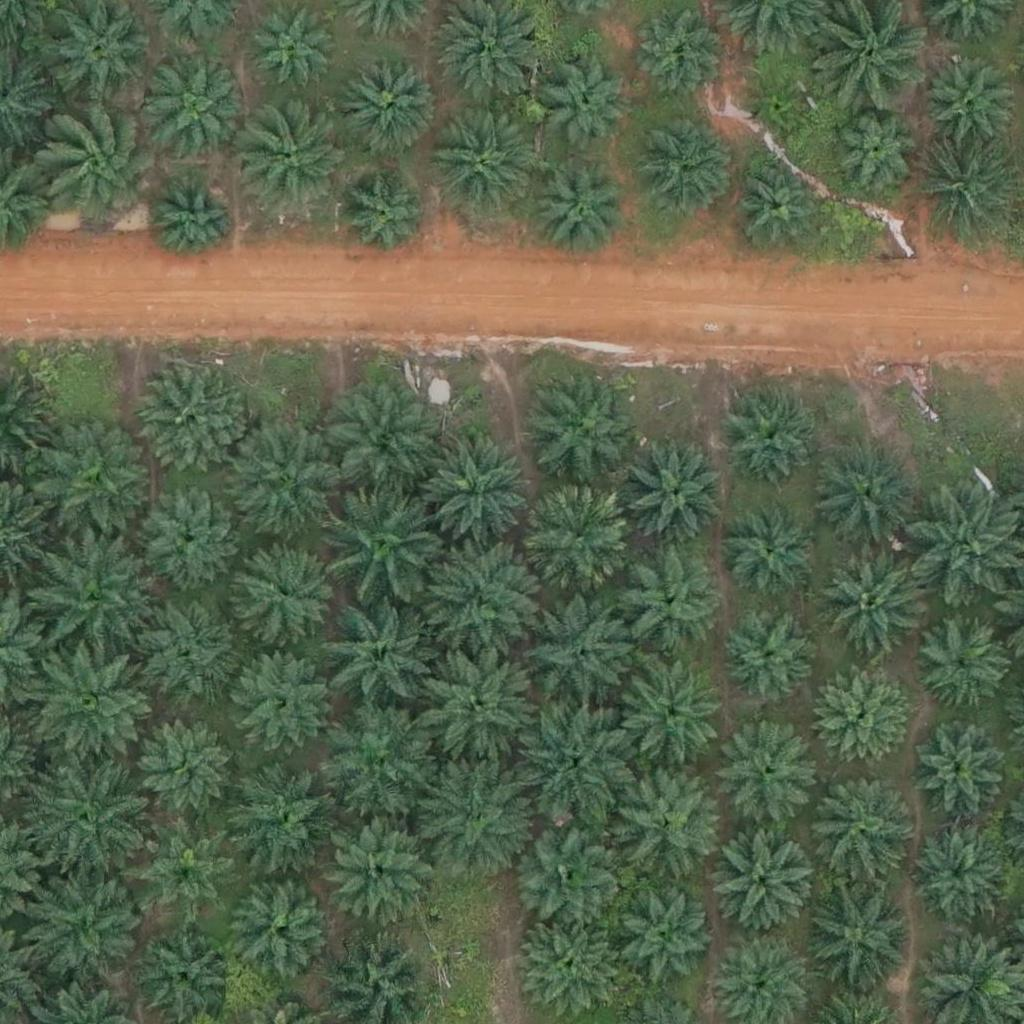Kelapa_Sawit: (39, 105, 164, 231), (525, 370, 638, 484), (423, 434, 536, 548), (423, 643, 536, 757), (322, 703, 435, 817), (39, 644, 152, 758), (909, 489, 1022, 602), (608, 761, 721, 874), (517, 698, 630, 811), (521, 484, 634, 597), (419, 548, 532, 661), (416, 762, 529, 875), (329, 485, 442, 598), (227, 759, 340, 872), (136, 366, 249, 479), (34, 427, 147, 540), (813, 439, 925, 553), (610, 550, 722, 664), (524, 594, 636, 708), (233, 423, 345, 537), (34, 873, 146, 987), (425, 106, 537, 220), (329, 823, 441, 936), (323, 598, 435, 711), (327, 386, 439, 499), (127, 594, 239, 707), (37, 542, 149, 655), (33, 762, 145, 875), (240, 102, 352, 215), (907, 820, 1007, 921), (811, 776, 911, 877), (813, 889, 913, 990), (714, 829, 814, 930), (720, 388, 820, 489), (623, 446, 723, 547), (621, 666, 721, 767), (518, 823, 618, 924), (235, 539, 335, 640), (235, 885, 335, 986), (138, 920, 238, 1021), (132, 712, 232, 813), (137, 480, 237, 581), (921, 50, 1021, 151), (828, 101, 928, 202), (636, 119, 736, 220), (530, 163, 630, 264), (341, 54, 441, 155), (822, 558, 922, 658), (810, 670, 910, 770), (721, 723, 821, 823), (718, 607, 818, 707), (721, 502, 821, 602), (614, 886, 714, 986), (522, 914, 622, 1014), (234, 650, 334, 750), (137, 819, 237, 919), (148, 62, 248, 162), (908, 728, 996, 816), (342, 177, 430, 265), (734, 160, 821, 249), (254, 5, 341, 94), (918, 615, 1005, 703), (635, 10, 722, 98), (542, 56, 629, 144), (149, 177, 236, 265), (750, 78, 813, 141)
